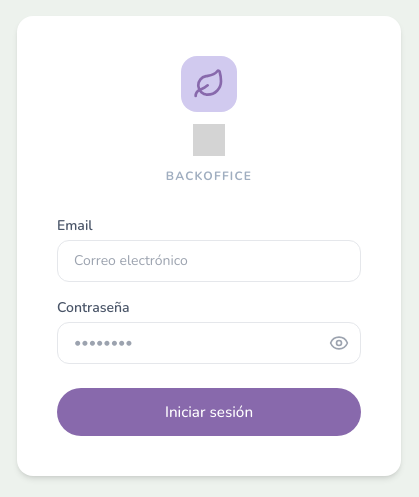
BackofficeLogin › deshabilita el botón mientras carga
Step 1. Type "admin@huly.com" into the field with placeholder "Correo electrónico" → (209, 261), box [57,240,361,282]
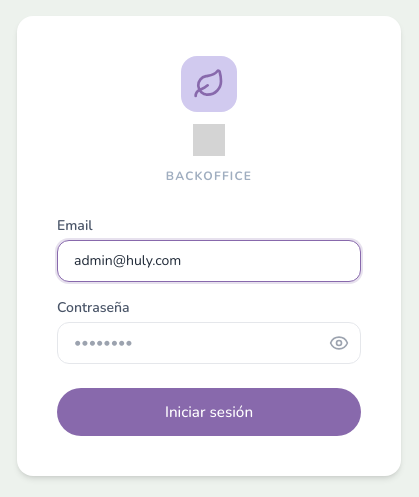
Step 2. Type "password123" into the password field with placeholder "••••••••" → (209, 343), box [57,322,361,364]
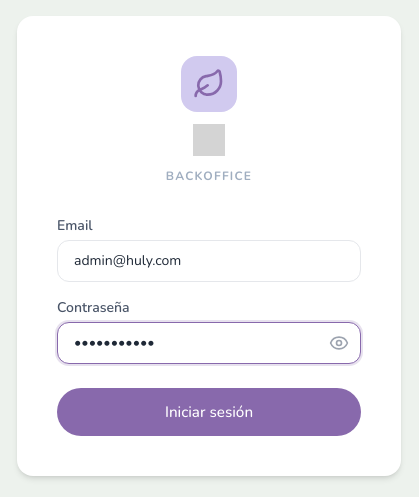
Step 3. Click the button "Iniciar sesión" → (209, 412), box [57,388,361,436]
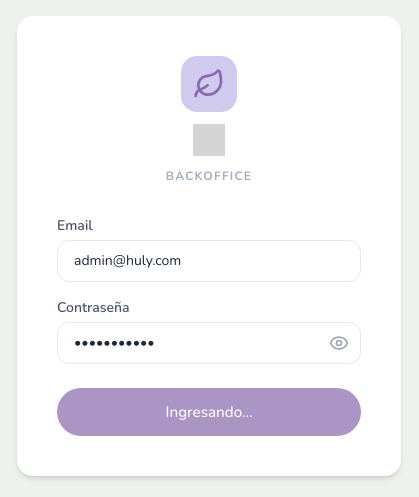
Now the button "Ingresando..." is disabled, box [57,388,361,436]
